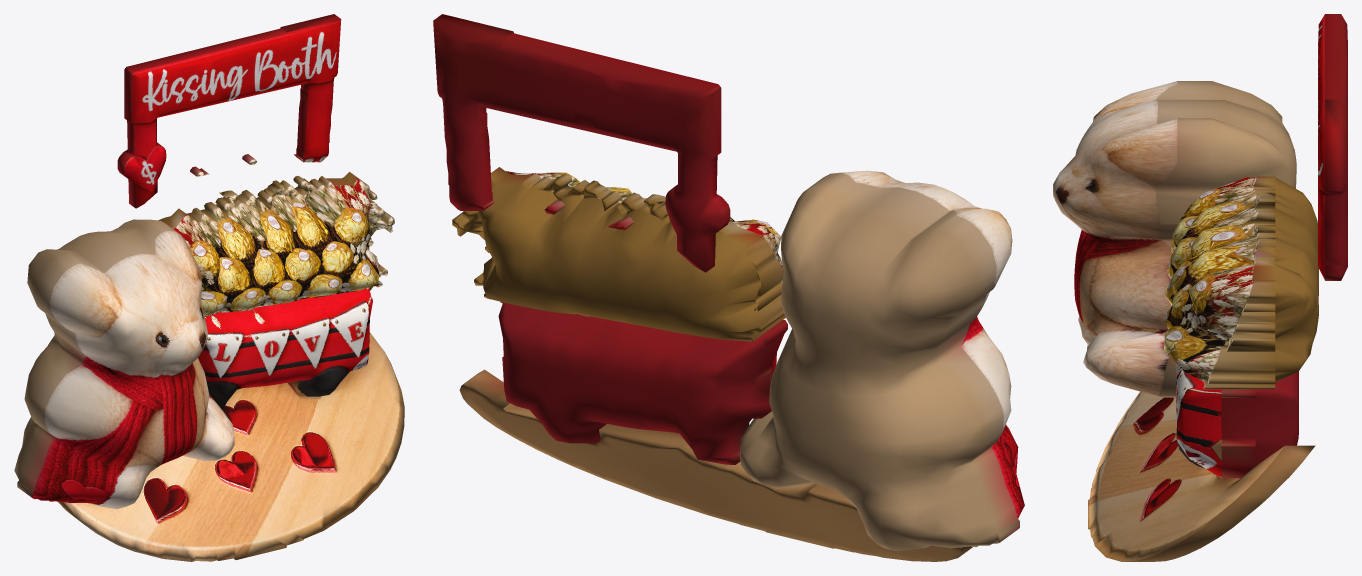
The model's file is oso-chocolates.glb.
3 renders of one model, left to right at view 1: azimuth 30°, elevation 25°; view 2: azimuth 150°, elevation 25°; view 3: azimuth 270°, elevation 25°, orthographic. The views are drawn at different scales.
Parts seen in each view (by area): view 1: Peluche y bufanda, Base de madera y corazones, Bombones y paniculata, Puesto de madera, Carrito y ruedas; view 2: Peluche y bufanda, Bombones y paniculata, Puesto de madera, Carrito y ruedas, Base de madera y corazones; view 3: Peluche y bufanda, Bombones y paniculata, Base de madera y corazones, Carrito y ruedas, Puesto de madera.
Boxes of the visible parts, box(x1,y1,x2,y2) form: Peluche y bufanda: box(14, 219, 234, 509); Base de madera y corazones: box(58, 333, 404, 561); Bombones y paniculata: box(158, 172, 394, 316); Puesto de madera: box(117, 14, 341, 208); Carrito y ruedas: box(198, 286, 372, 408); Peluche y bufanda: box(740, 170, 1024, 551); Bombones y paniculata: box(452, 167, 785, 341); Puesto de madera: box(433, 14, 730, 272); Carrito y ruedas: box(498, 301, 787, 464); Base de madera y corazones: box(459, 369, 972, 561); Peluche y bufanda: box(1053, 81, 1296, 397); Bombones y paniculata: box(1164, 176, 1318, 389); Base de madera y corazones: box(1088, 391, 1315, 561); Carrito y ruedas: box(1176, 363, 1298, 478); Puesto de madera: box(1318, 14, 1347, 280).
Bounding box in the file's own units: 1.93 × 2 × 1.09.
2 materials, 1 textured.
